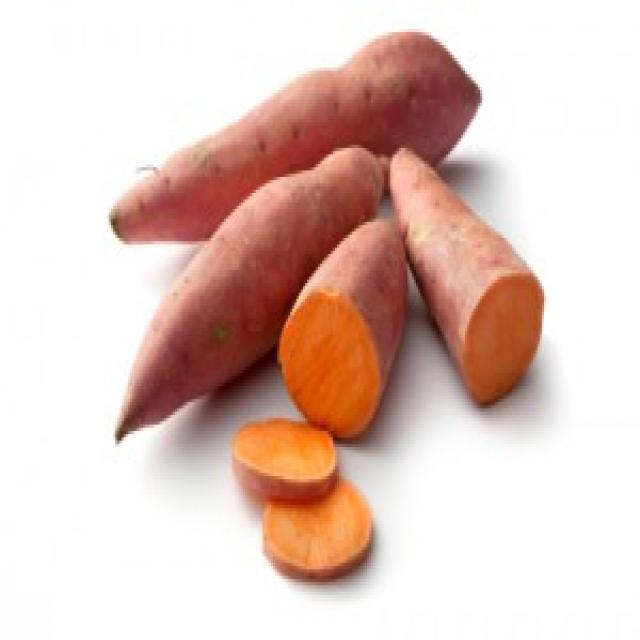sweet potato: (404, 147, 547, 407), (219, 31, 492, 150), (106, 242, 276, 419), (277, 222, 403, 436), (230, 413, 340, 506)
